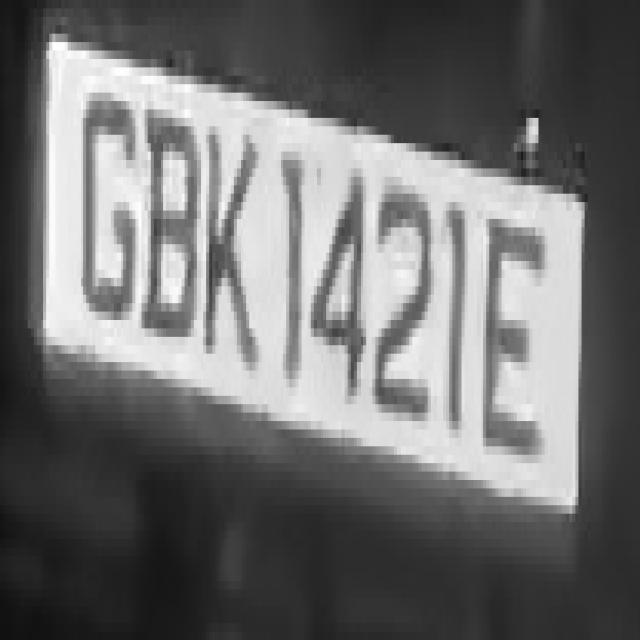1: (280, 118, 308, 404), (443, 185, 468, 463)
2: (363, 152, 434, 463)
4: (308, 152, 372, 412)
B: (135, 84, 203, 362)
E: (474, 177, 548, 497)
G: (67, 68, 142, 328)
K: (203, 110, 252, 370)
